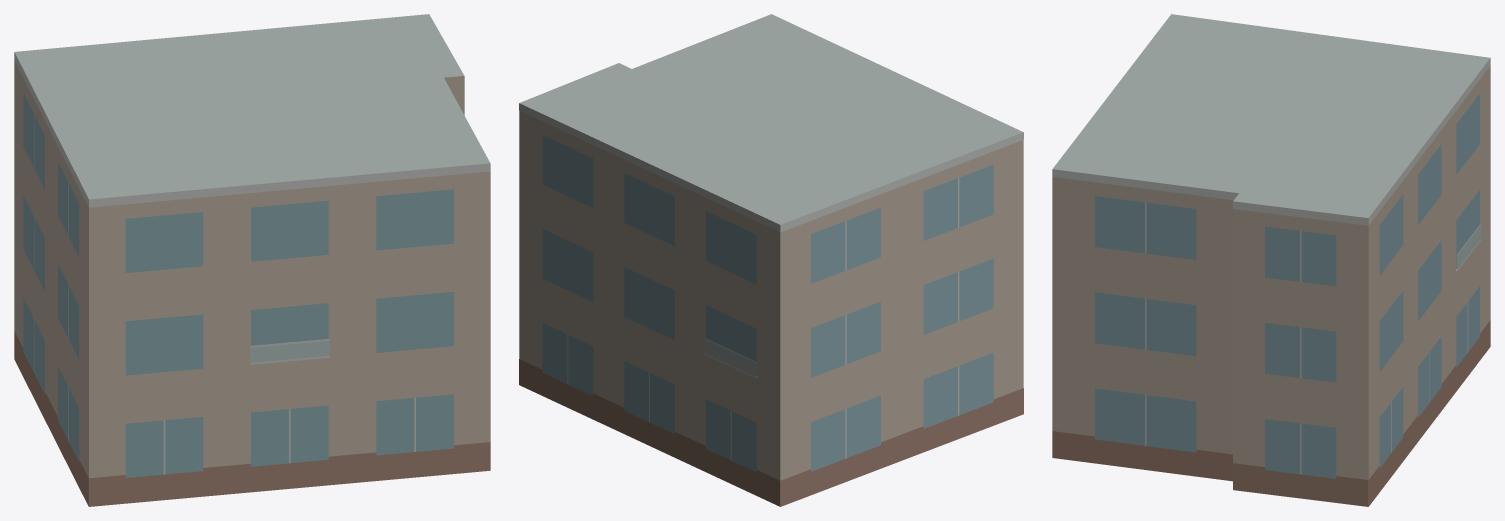
File: survey-upis-32992667.glb
3 renders of one model, left to right at view 1: azimuth 30°, elevation 25°; view 2: azimuth 150°, elevation 25°; view 3: azimuth 270°, elevation 25°, orthographic. The views are drawn at different scales.
Parts seen in each view (by area): view 1: survey-upis-32992667.tmp; view 2: survey-upis-32992667.tmp; view 3: survey-upis-32992667.tmp.
Boxes of the visible parts, x1,y1,x2,y2 form: survey-upis-32992667.tmp: (14,14,490,506); survey-upis-32992667.tmp: (519,14,1023,506); survey-upis-32992667.tmp: (1052,14,1490,506).
Size of the model in its own units: 13.88 by 9.15 by 12.6.
